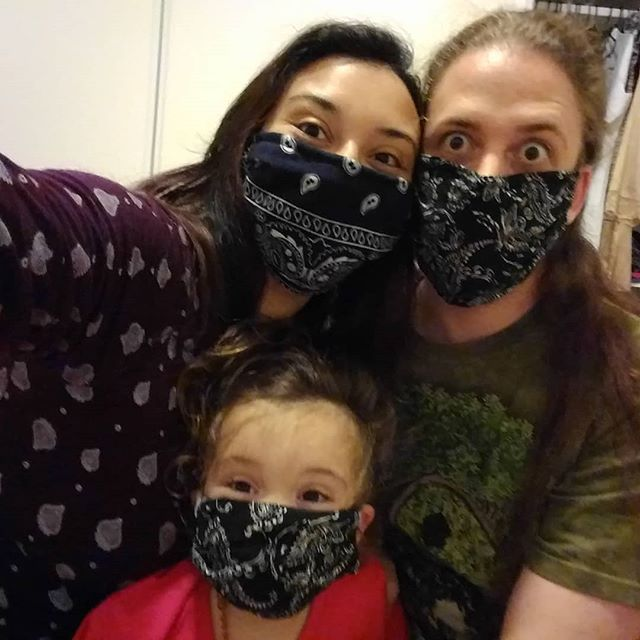homemade: (232, 124, 410, 296), (409, 146, 576, 312), (191, 483, 374, 619)
